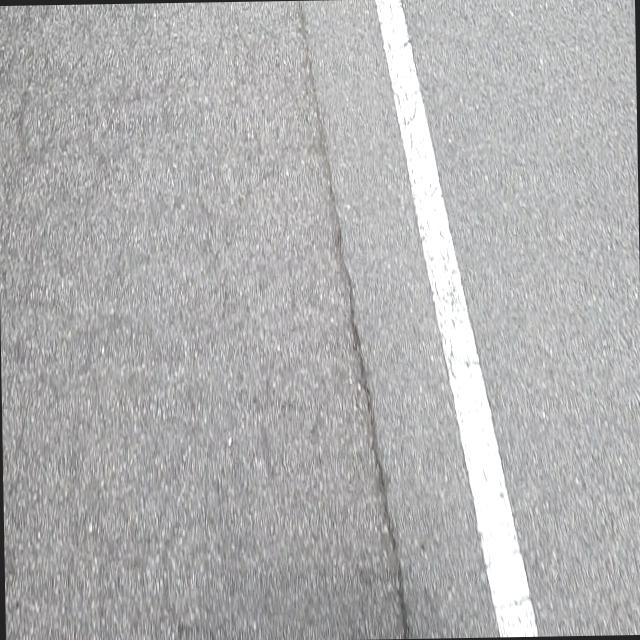Retak-Memanjang: (295, 0, 412, 639)
